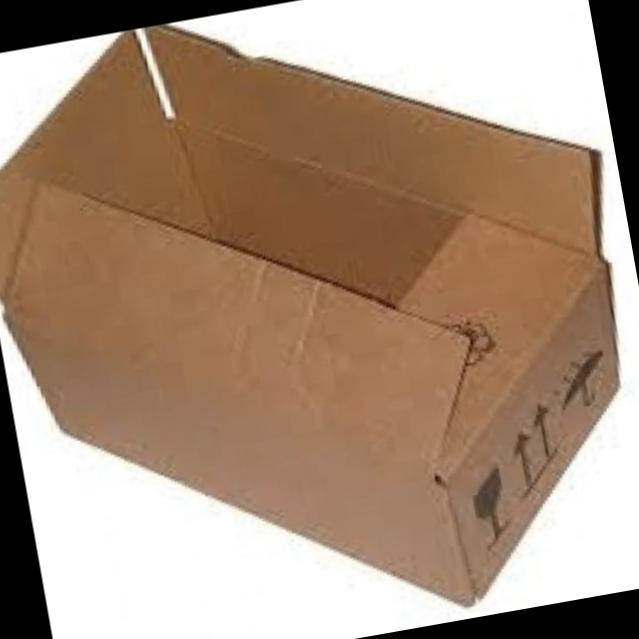cardboard paper: (0, 23, 616, 603)
